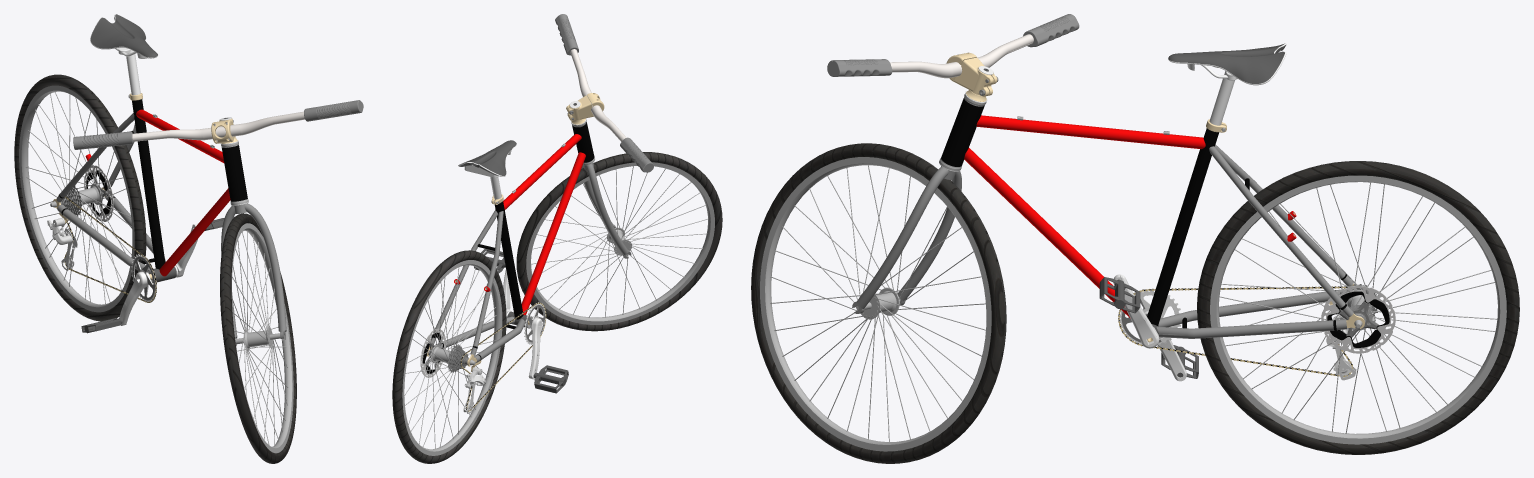
Rendered from rigid_bike.gltf.
3 renders of one model, left to right at view 1: azimuth 30°, elevation 25°; view 2: azimuth 150°, elevation 25°; view 3: azimuth 270°, elevation 25°, orthographic. The views are drawn at different scales.
Visible parts, largest first — view 1: Dished Rear Wheel.STEP-1, Front Wheel.STEP-1, Bike Saddle_1.STEP-1, Seat Tube-1, 2019 Fork in Progress.STEP-1, Handlebar.STEP-1, Crank Arms_1.STEP-1, Head Tube 44x170-1, Down Tube-1, Chain Stay-1, RT-MT900 160mm.stp-1, Handlebar Grip.STEP-2 (+7 smaller); view 2: Front Wheel.STEP-1, Dished Rear Wheel.STEP-1, Down Tube-1, Bike Saddle_1.STEP-1, Crank Arms_1.STEP-1, Seat Tube-1, 2019 Fork in Progress.STEP-1, Top Tube-1, Seat Stay-1, Handlebar.STEP-1, Generic Al Pedal_1.STEP-3, MirrorSeat Stay-2 (+8 smaller); view 3: Dished Rear Wheel.STEP-1, Front Wheel.STEP-1, Bike Saddle_1.STEP-1, 2019 Fork in Progress.STEP-1, Top Tube-1, Seat Tube-1, RT-MT900 160mm.stp-1, Down Tube-1, Crank Arms_1.STEP-1, Chain Stay-2, MirrorSeat Stay-2, Head Tube 44x170-1 (+7 smaller).
Part boxes in pixels (<box>): Dished Rear Wheel.STEP-1: <box>14,74,146,321</box>; Front Wheel.STEP-1: <box>220,213,296,463</box>; Bike Saddle_1.STEP-1: <box>90,14,158,95</box>; Seat Tube-1: <box>132,99,165,269</box>; 2019 Fork in Progress.STEP-1: <box>221,120,286,345</box>; Handlebar.STEP-1: <box>132,111,304,141</box>; Crank Arms_1.STEP-1: <box>119,223,198,325</box>; Head Tube 44x170-1: <box>221,141,248,204</box>; Down Tube-1: <box>159,188,230,276</box>; Chain Stay-1: <box>57,204,153,269</box>; RT-MT900 160mm.stp-1: <box>84,165,113,221</box>; Handlebar Grip.STEP-2: <box>73,131,133,149</box>; Front Wheel.STEP-1: <box>516,152,722,331</box>; Dished Rear Wheel.STEP-1: <box>392,250,506,463</box>; Down Tube-1: <box>521,152,585,314</box>; Bike Saddle_1.STEP-1: <box>458,140,516,200</box>; Crank Arms_1.STEP-1: <box>503,269,545,379</box>; Seat Tube-1: <box>494,201,523,319</box>; 2019 Fork in Progress.STEP-1: <box>581,163,631,258</box>; Top Tube-1: <box>503,134,581,209</box>; Seat Stay-1: <box>470,211,503,355</box>; Handlebar.STEP-1: <box>570,49,626,141</box>; Generic Al Pedal_1.STEP-3: <box>533,365,568,393</box>; MirrorSeat Stay-2: <box>431,209,497,344</box>; Dished Rear Wheel.STEP-1: <box>1197,161,1519,454</box>; Front Wheel.STEP-1: <box>751,143,1006,463</box>; Bike Saddle_1.STEP-1: <box>1168,43,1286,125</box>; 2019 Fork in Progress.STEP-1: <box>852,166,961,313</box>; Top Tube-1: <box>976,115,1205,148</box>; Seat Tube-1: <box>1147,128,1218,325</box>; RT-MT900 160mm.stp-1: <box>1321,285,1395,353</box>; Down Tube-1: <box>964,148,1130,318</box>; Crank Arms_1.STEP-1: <box>1113,274,1186,381</box>; Chain Stay-2: <box>1156,319,1347,338</box>; MirrorSeat Stay-2: <box>1209,146,1353,317</box>; Head Tube 44x170-1: <box>939,94,986,170</box>.
Size of the model in its own units: 0.6403 by 1.04 by 1.65.
Materials: 58 (4 with a texture image).
